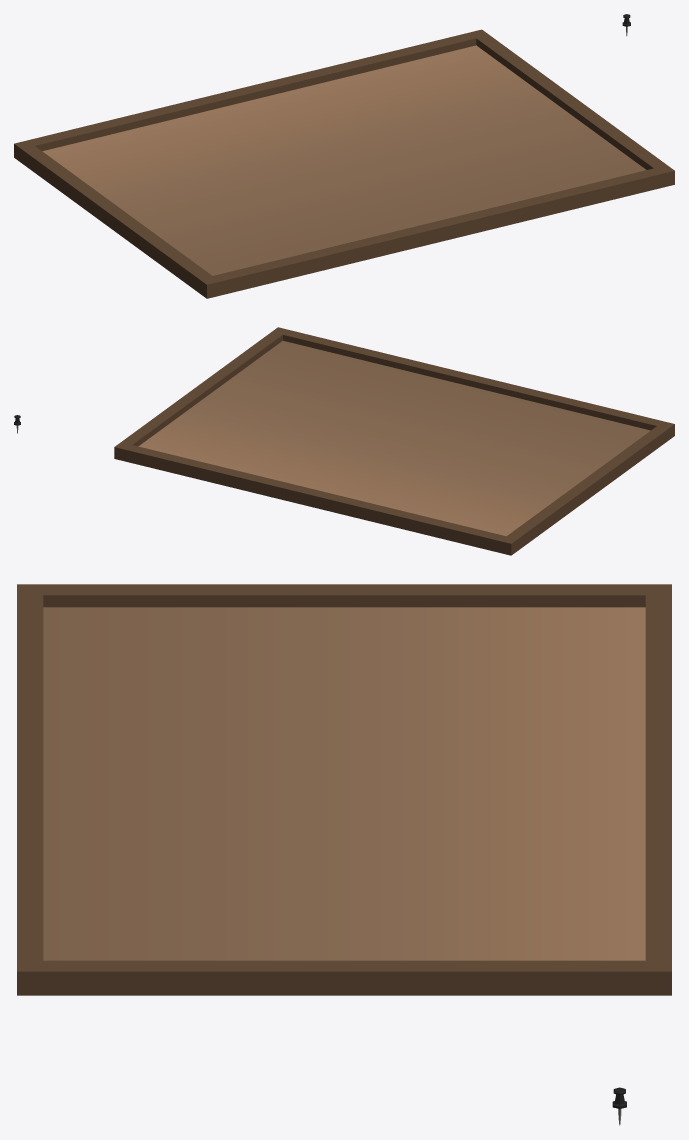
The model's file is L1_corkboard_pin.fbx.
3 renders of one model, top to bottom at view 1: azimuth 30°, elevation 25°; view 2: azimuth 150°, elevation 25°; view 3: azimuth 270°, elevation 25°, orthographic. The views are drawn at different scales.
Visible parts, largest first — view 1: Box001; view 2: Box001; view 3: Box001.
Part boxes in pixels (bbox=[...]): Box001: bbox=[14, 29, 674, 298]; Box001: bbox=[114, 327, 674, 555]; Box001: bbox=[17, 584, 671, 995].
Bounding box in the file's own units: 35.43 × 1.53 × 19.69.
2 materials, 2 textured.
